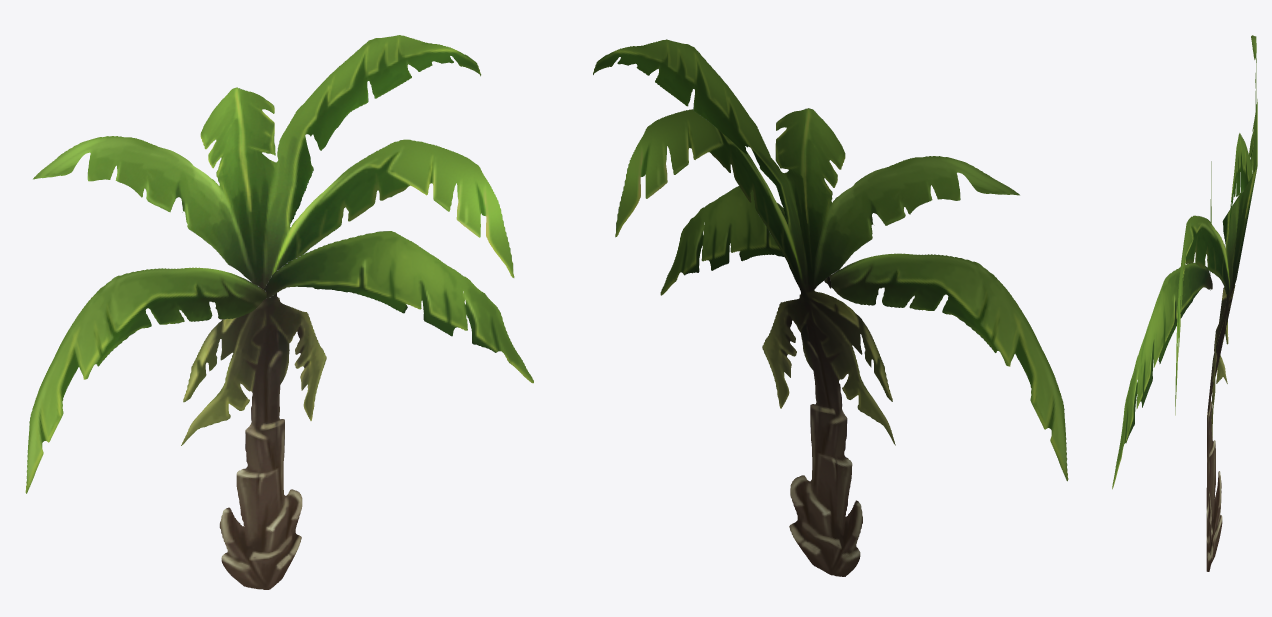
File: Palm Tree A.FBX
The picture shows the model from 3 angles, left to right: view 1: azimuth 30°, elevation 25°; view 2: azimuth 150°, elevation 25°; view 3: azimuth 270°, elevation 25°; orthographic projection. The views are drawn at different scales.
Parts seen in each view (by area): view 1: Palm Tree, Palm Tree Leaf L, Palm Tree Leaf R; view 2: Palm Tree, Palm Tree Leaf L, Palm Tree Leaf R; view 3: Palm Tree, Palm Tree Leaf R.
Boxes of the visible parts, x1=… form: Palm Tree: x1=33, y1=35, x2=514, y2=589; Palm Tree Leaf L: x1=25, y1=267, x2=266, y2=493; Palm Tree Leaf R: x1=263, y1=231, x2=533, y2=383; Palm Tree: x1=593, y1=39, x2=1019, y2=576; Palm Tree Leaf L: x1=824, y1=253, x2=1068, y2=481; Palm Tree Leaf R: x1=660, y1=186, x2=831, y2=295; Palm Tree: x1=1175, y1=35, x2=1257, y2=571; Palm Tree Leaf R: x1=1112, y1=262, x2=1212, y2=489.
Size of the model in its own units: 623 by 167 by 640.
